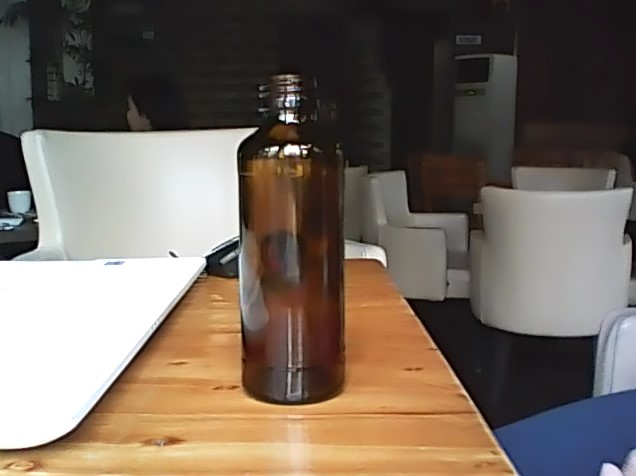Glass: (233, 71, 353, 406)
